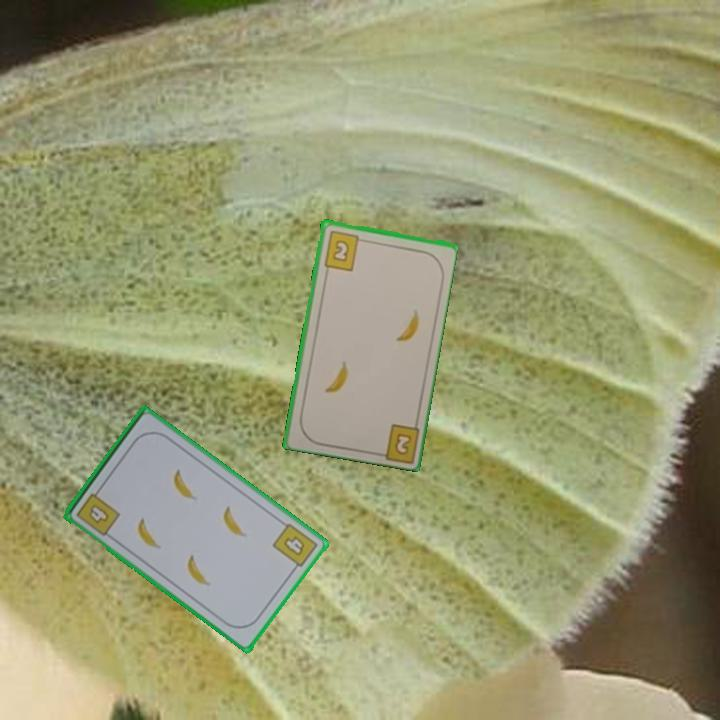2b: (320, 227, 367, 273), (391, 429, 414, 458)
4b: (269, 519, 321, 575), (72, 484, 123, 539)
